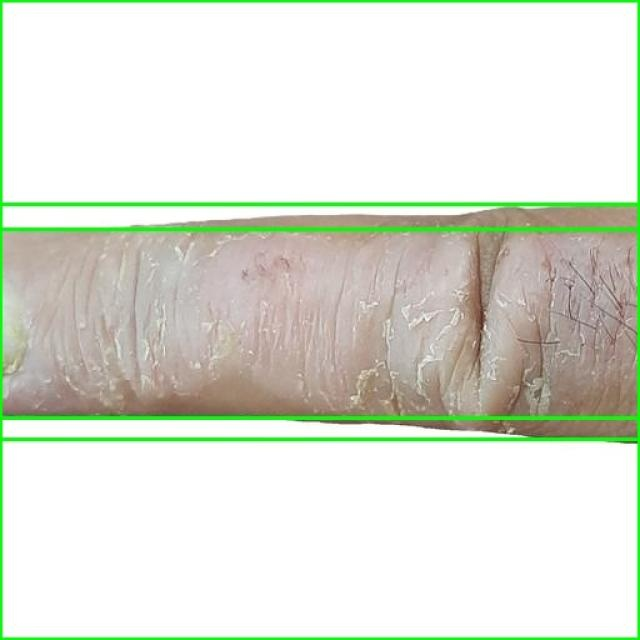Eczema: (0, 205, 639, 440), (0, 0, 639, 229), (0, 418, 639, 639)
